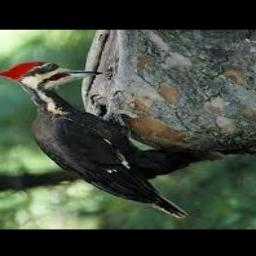Woodpecker: (0, 62, 190, 217)
